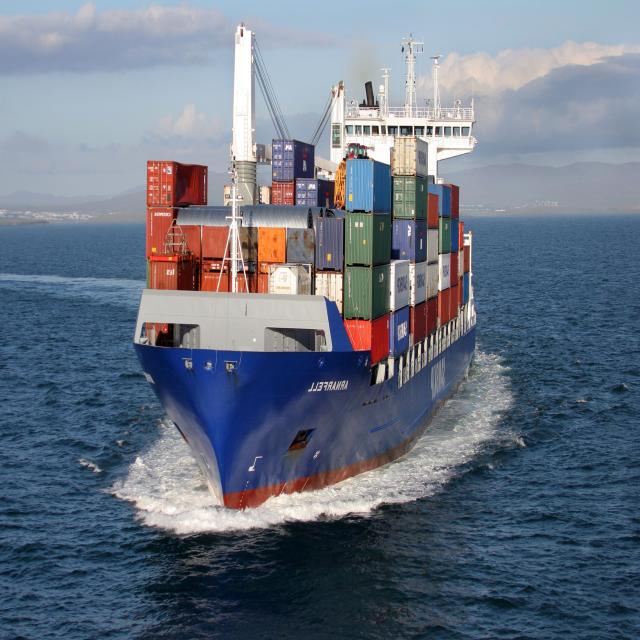cargoship: (131, 13, 485, 510)
